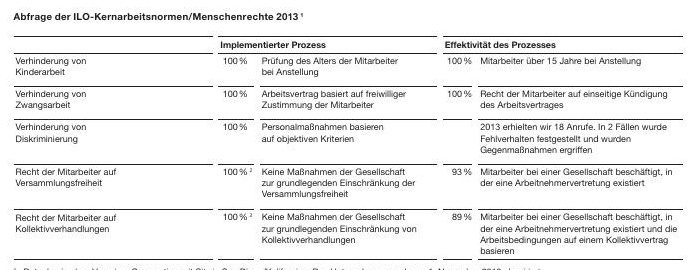table: (0, 0, 693, 270)
